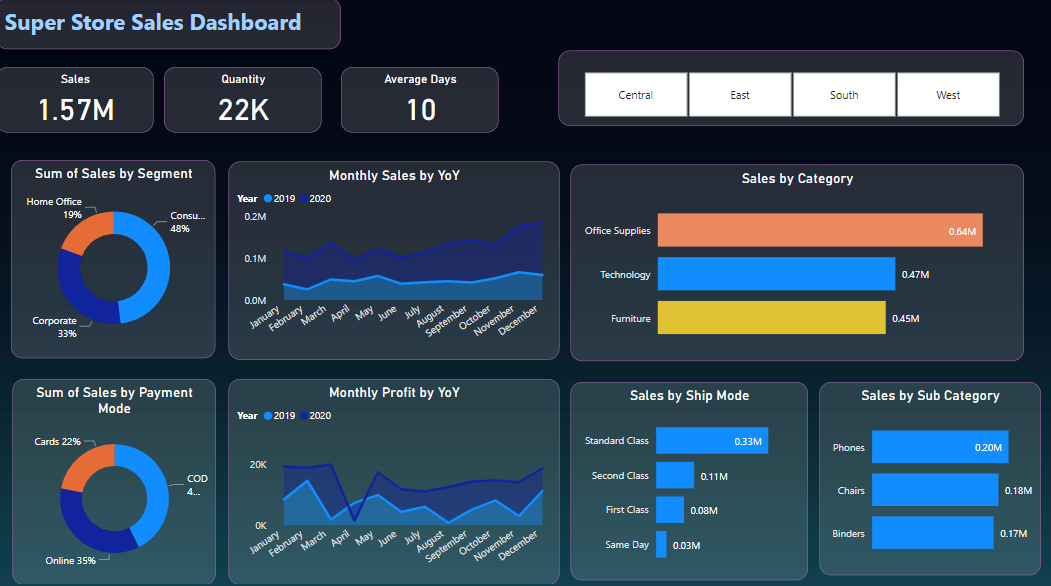

This screenshot's page, from the dashboard's own definition file:
{"tool":"powerbi","page":{"name":"Dashboard","canvas":[1280,720],"ordinal":0},"visuals":[{"type":"clusteredBarChart","title":"Sales by Category","fields":{"Category":["SuperStore_Sales_Dataset.Category"],"Y":["Sum(SuperStore_Sales_Dataset.Sales)"]},"box":[695.5,200.8,548.6,238],"z":0},{"type":"clusteredBarChart","title":"Sales by Sub Category","fields":{"Category":["SuperStore_Sales_Dataset.Sub-Category"],"Y":["Sum(SuperStore_Sales_Dataset.Sales)"]},"box":[996.7,464.9,267.8,234.3],"z":1000},{"type":"clusteredBarChart","title":"Sales by Ship Mode","fields":{"Category":["SuperStore_Sales_Dataset.Ship Mode"],"Y":["Sum(SuperStore_Sales_Dataset.Sales)"]},"box":[695.4,464.9,287.2,240],"z":2000},{"type":"stackedAreaChart","title":"Monthly Sales by YoY","fields":{"Y":["Sum(SuperStore_Sales_Dataset.Sales)"],"Series":["SuperStore_Sales_Dataset.Order Date.Variation.Date Hierarchy.Year"],"Category":["SuperStore_Sales_Dataset.Order Date.Variation.Date Hierarchy.Month"]},"box":[281.6,198.4,400.6,240],"z":3000},{"type":"stackedAreaChart","title":"Monthly Profit by YoY","fields":{"Series":["SuperStore_Sales_Dataset.Order Date.Variation.Date Hierarchy.Year"],"Y":["Sum(SuperStore_Sales_Dataset.Profit)"],"Category":["SuperStore_Sales_Dataset.Order Date.Variation.Date Hierarchy.Month"]},"box":[281.6,461.1,400.6,249.5],"z":4000},{"type":"donutChart","fields":{"Category":["SuperStore_Sales_Dataset.Segment"],"Y":["Sum(SuperStore_Sales_Dataset.Sales)"]},"box":[18.9,196.5,247.6,240],"z":5000},{"type":"donutChart","fields":{"Y":["Sum(SuperStore_Sales_Dataset.Sales)"],"Category":["SuperStore_Sales_Dataset.Payment Mode"]},"box":[20.8,461.1,245.7,249.5],"z":6000},{"type":"slicer","fields":{"Values":["SuperStore_Sales_Dataset.Region"]},"box":[680.6,63.2,563.5,91.1],"z":7000},{"type":"textbox","box":[0,0,395,62.4],"z":8000},{"type":"card","title":"Sales","fields":{"Values":["Sum(SuperStore_Sales_Dataset.Sales)"]},"box":[0,83.2,190.9,79.4],"z":9000},{"type":"card","title":"Quantity","fields":{"Values":["Sum(SuperStore_Sales_Dataset.Quantity)"]},"box":[204.1,83.2,190.9,79.4],"z":10000},{"type":"card","title":"Average Days","fields":{"Values":["Avg(SuperStore_Sales_Dataset.AvgDelivery)"]},"box":[417.6,83.2,190.9,79.4],"z":11000}]}

Visuals, with their boxes in screenshot pixels (x1, y1, x2, y2), scaled from the page's 1280x720 canvas onto the 1051x586 screenshot:
"Sales by Category" clusteredBarChart: 571:163:1022:357
"Sales by Sub Category" clusteredBarChart: 818:378:1038:569
"Sales by Ship Mode" clusteredBarChart: 571:378:807:574
"Monthly Sales by YoY" stackedAreaChart: 231:161:560:357
"Monthly Profit by YoY" stackedAreaChart: 231:375:560:578
donutChart - SuperStore_Sales_Dataset.Segment x Sum(SuperStore_Sales_Dataset.Sales): 16:160:219:355
donutChart - Sum(SuperStore_Sales_Dataset.Sales) x SuperStore_Sales_Dataset.Payment Mode: 17:375:219:578
slicer - SuperStore_Sales_Dataset.Region: 559:51:1022:126
textbox: 0:0:324:51
"Sales" card: 0:68:157:132
"Quantity" card: 168:68:324:132
"Average Days" card: 343:68:500:132
